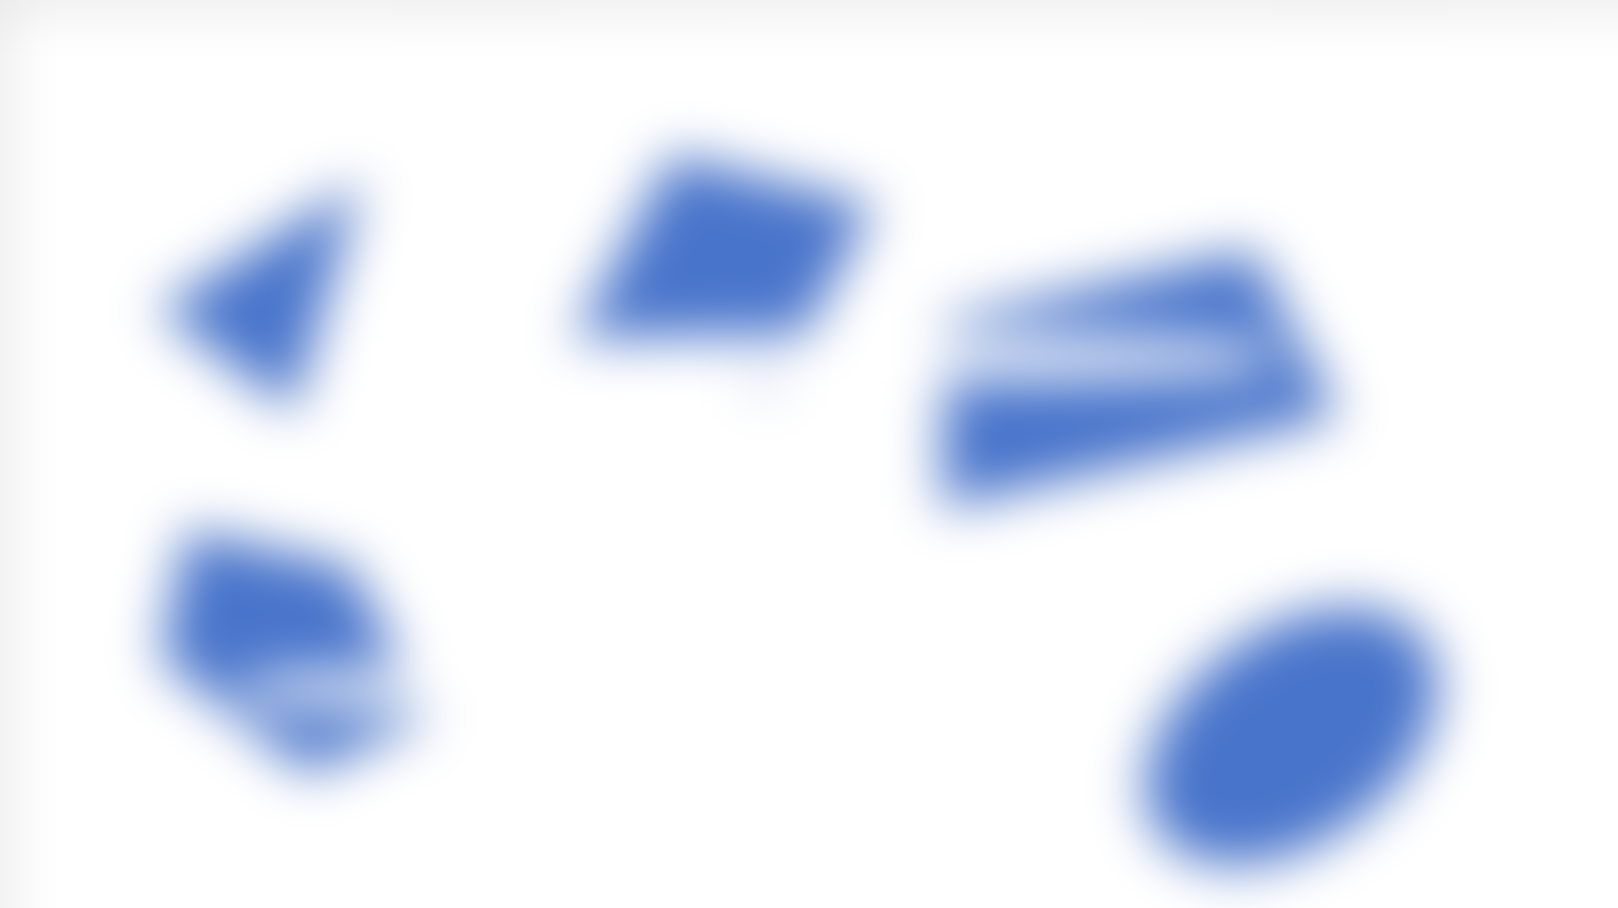circle: (1121, 592, 1480, 885)
parallelogram: (590, 123, 865, 392)
pentagon: (133, 523, 482, 792)
trapezium: (929, 220, 1384, 573)
triangle: (158, 173, 411, 416)
